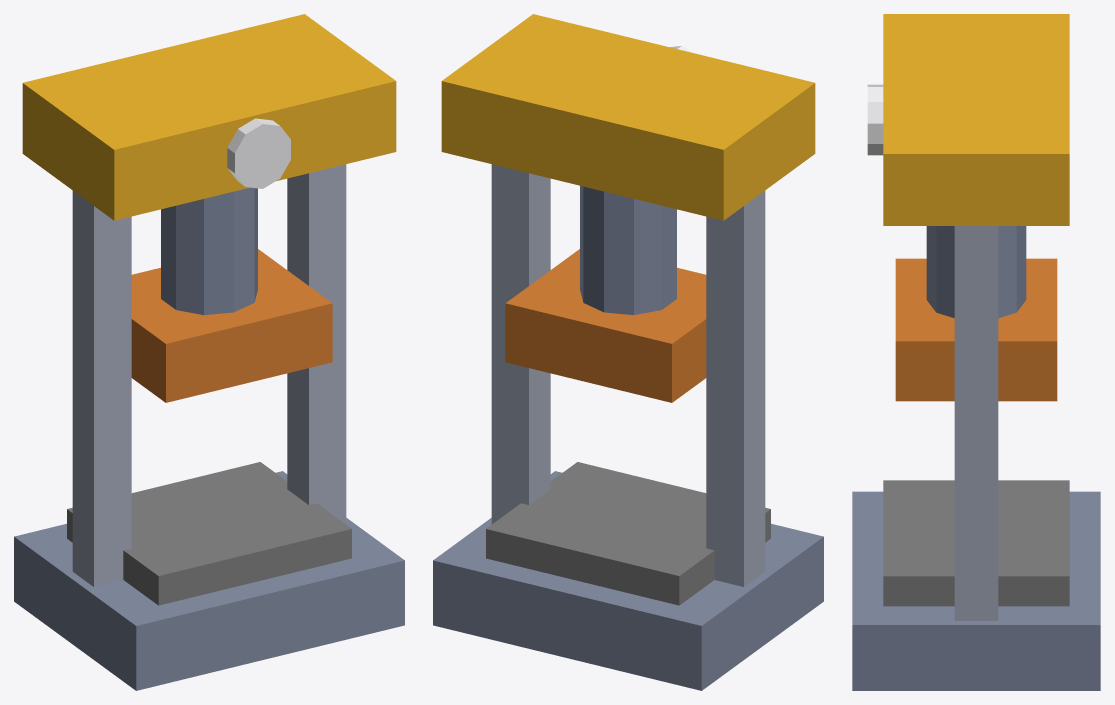
The model's file is press.glb.
3 renders of one model, left to right at view 1: azimuth 30°, elevation 25°; view 2: azimuth 150°, elevation 25°; view 3: azimuth 270°, elevation 25°, orthographic.
Visible parts, largest first — view 1: press; view 2: press; view 3: press.
Part boxes in pixels (x1,y1,x2,y2): press: (14, 14, 404, 690); press: (433, 14, 823, 690); press: (852, 14, 1100, 690).
Bounding box in the file's own units: 1 × 1.8 × 0.75.
